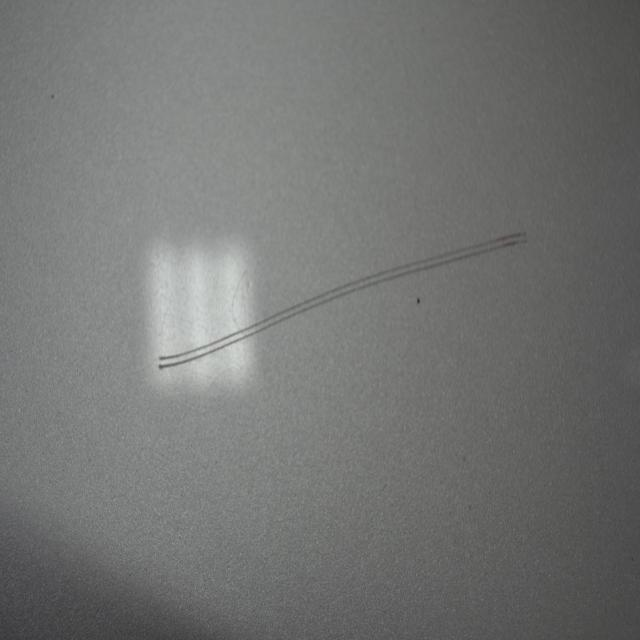dirt: (50, 91, 56, 103), (415, 294, 421, 306)
scratch: (153, 225, 531, 378)
